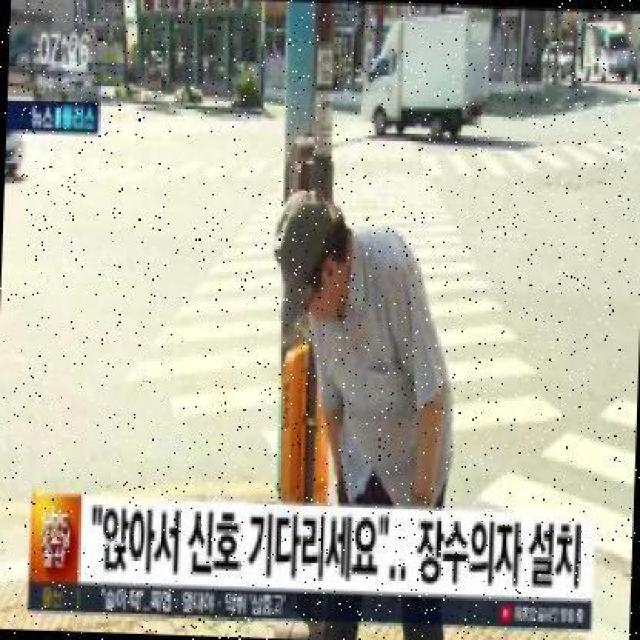-: (264, 189, 462, 506)
